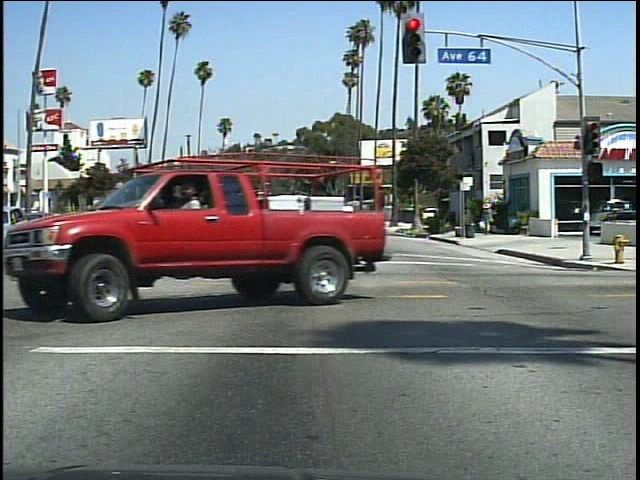person: (178, 176, 220, 303), (478, 199, 497, 237)
